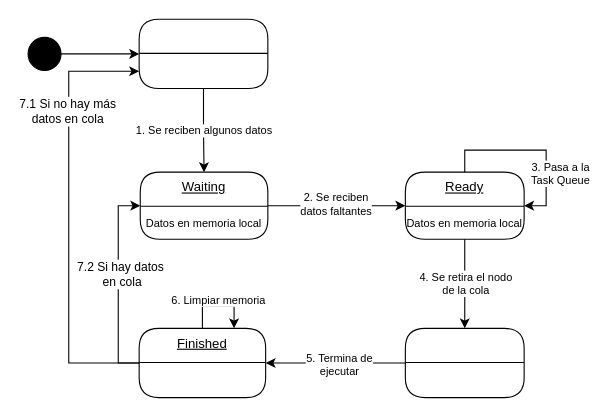
Image size: 608x417. Some labels were removed from this diagram. The shapes that lost their labels are listed below. From the top down, each one's centre as x and y in pixels, then its label:
At pixel 203 53: "Idle".
At pixel 464 362: "Running".
